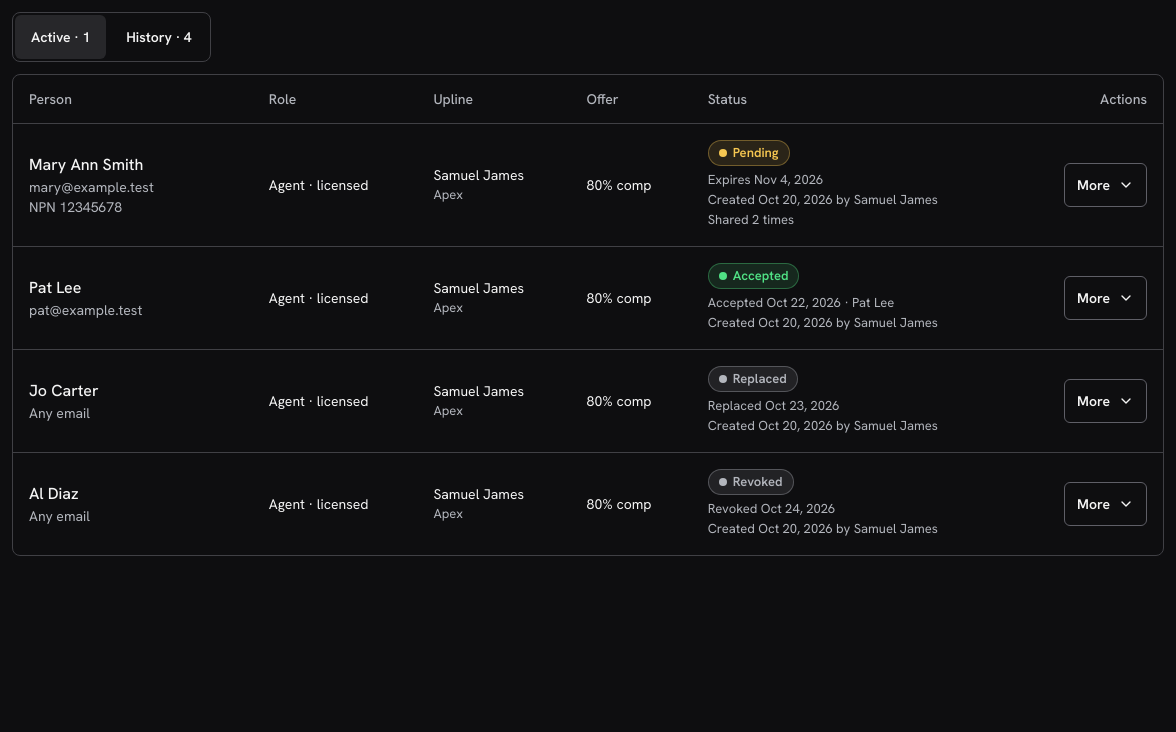
Test: InvitationsTable › the History view counts every state in the same words
Later steps or results of the test are not shown.
What coordinates should you click on to do the following:
click the tab "History · 4"
I would click on:
 (159, 37)
Its box is [110,15,208,59].
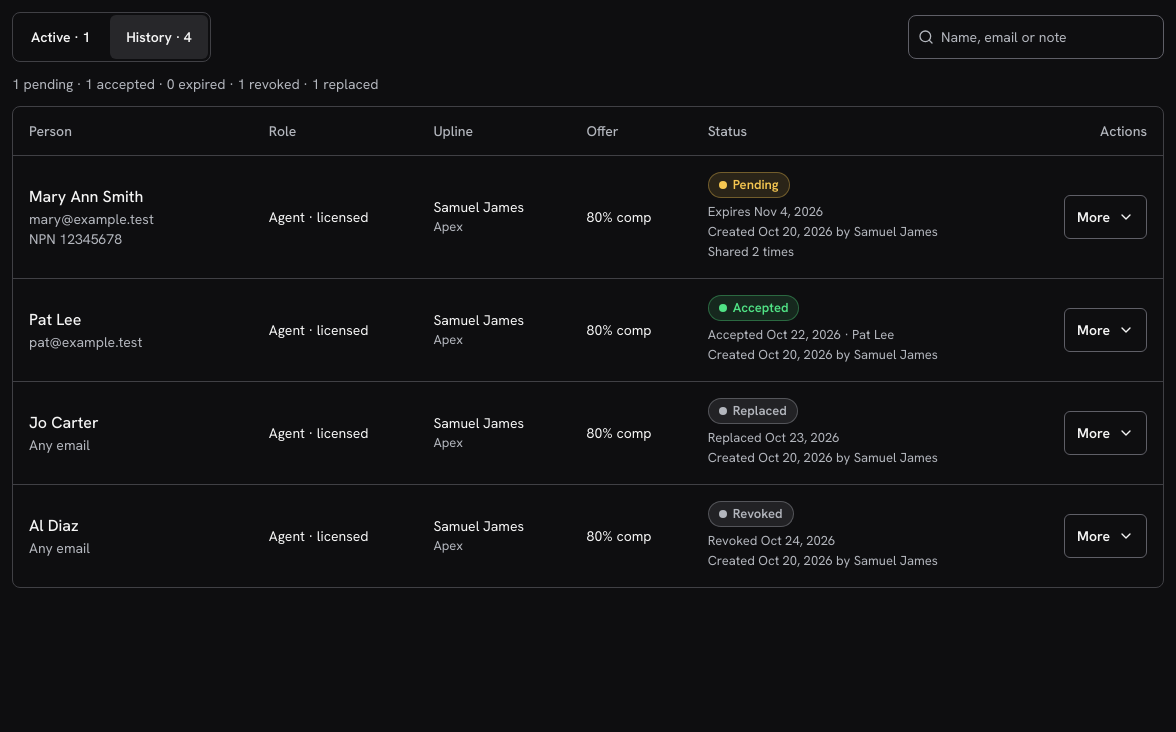
Expected: the text with test id "invitation-counts" reads "1 pending · 1 accepted · 0 expired · 1 revoked · 1 replaced", [12,75,378,93]
